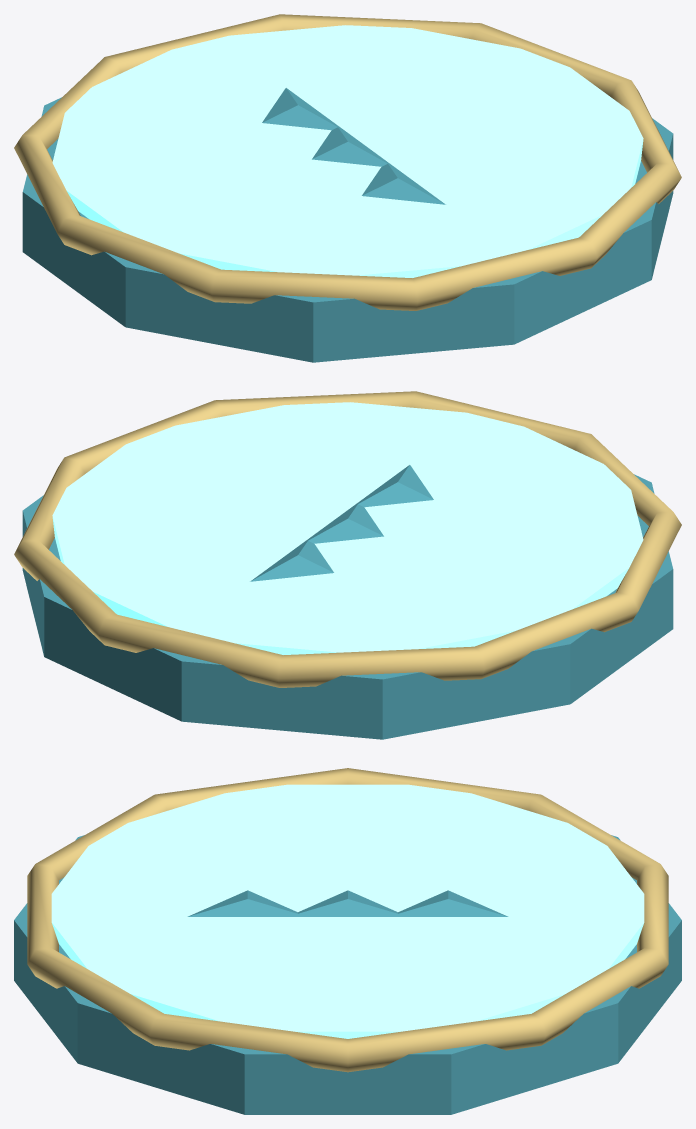
File: Gimmick_SpeedPad.fbx
3 renders of one model, top to bottom at view 1: azimuth 30°, elevation 25°; view 2: azimuth 150°, elevation 25°; view 3: azimuth 270°, elevation 25°, orthographic.
Parts seen in each view (by area): view 1: Gimmick_SpeedPad_Top, Gimmick_SpeedPad_Base, Gimmick_SpeedPad_Ring, Gimmick_SpeedPad; view 2: Gimmick_SpeedPad_Top, Gimmick_SpeedPad_Base, Gimmick_SpeedPad_Ring, Gimmick_SpeedPad; view 3: Gimmick_SpeedPad_Top, Gimmick_SpeedPad_Base, Gimmick_SpeedPad_Ring, Gimmick_SpeedPad.
Boxes of the visible parts, x1=… form: Gimmick_SpeedPad_Top: x1=52, y1=25, x2=643, y2=277; Gimmick_SpeedPad_Base: x1=22, y1=97, x2=673, y2=362; Gimmick_SpeedPad_Ring: x1=14, y1=14, x2=681, y2=310; Gimmick_SpeedPad: x1=262, y1=88, x2=445, y2=204; Gimmick_SpeedPad_Top: x1=52, y1=402, x2=643, y2=654; Gimmick_SpeedPad_Base: x1=22, y1=474, x2=673, y2=739; Gimmick_SpeedPad_Ring: x1=14, y1=391, x2=681, y2=687; Gimmick_SpeedPad: x1=250, y1=465, x2=433, y2=581; Gimmick_SpeedPad_Top: x1=51, y1=784, x2=644, y2=1038; Gimmick_SpeedPad_Base: x1=14, y1=835, x2=681, y2=1114; Gimmick_SpeedPad_Ring: x1=27, y1=768, x2=668, y2=1072; Gimmick_SpeedPad: x1=187, y1=890, x2=508, y2=916.
Size of the model in its own units: 1.01 by 0.135 by 1.
